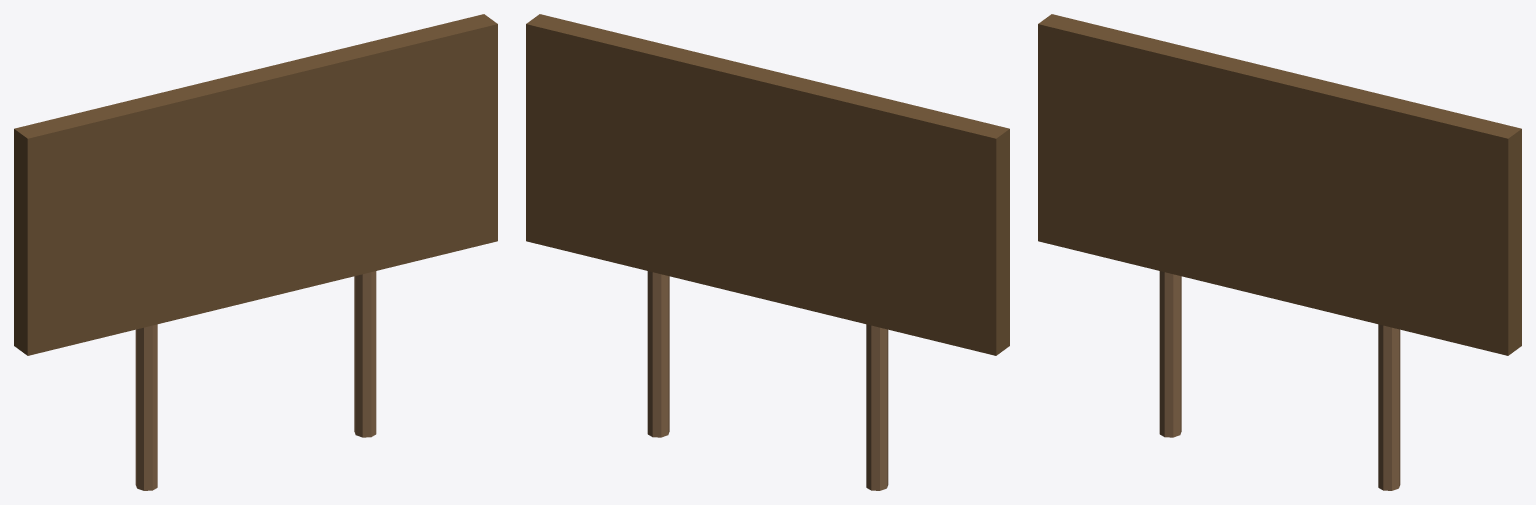
File: cartel_inicio_lev3.glb
3 renders of one model, left to right at view 1: azimuth 30°, elevation 25°; view 2: azimuth 150°, elevation 25°; view 3: azimuth 330°, elevation 25°, orthographic.
Parts seen in each view (by area): view 1: cartel_inicio_lev3; view 2: cartel_inicio_lev3; view 3: cartel_inicio_lev3.
Boxes of the visible parts, bbox=[...] form: cartel_inicio_lev3: bbox=[14, 14, 497, 490]; cartel_inicio_lev3: bbox=[526, 14, 1009, 490]; cartel_inicio_lev3: bbox=[1038, 14, 1521, 490].
Size of the model in its own units: 8.65 by 6.74 by 0.438.
